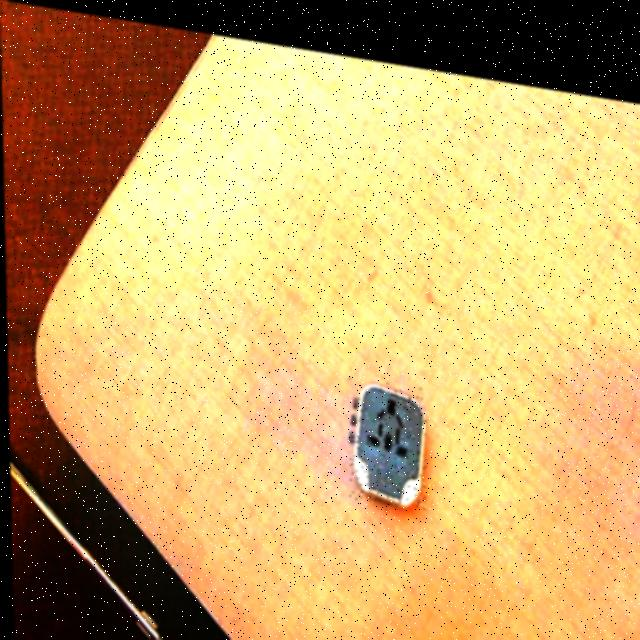adapter: (346, 365, 426, 498)
